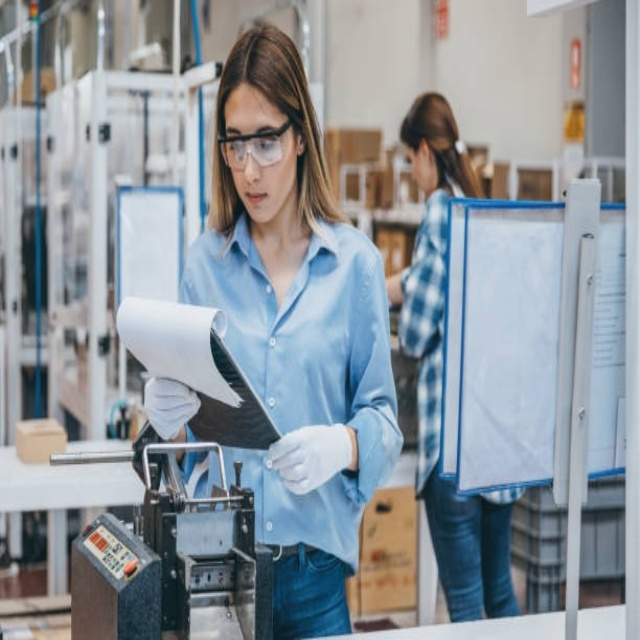Gafas: (219, 120, 296, 170)
Guantes: (268, 422, 353, 494), (143, 375, 201, 440)
Sin_mascara: (241, 180, 276, 221)
